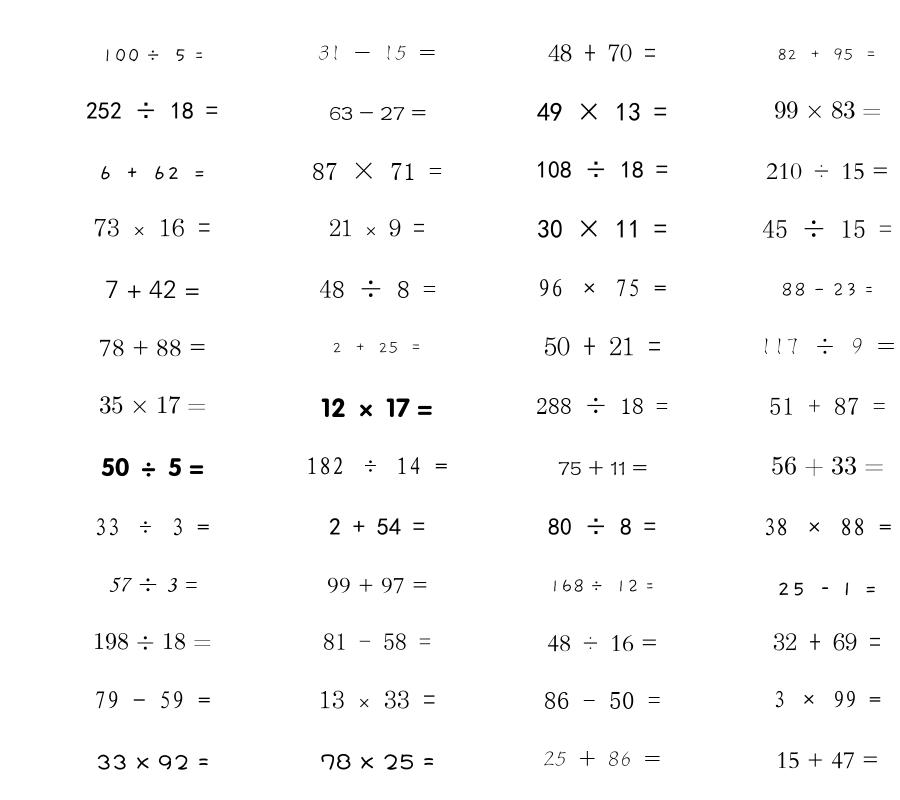MQ: (537, 219, 667, 239), (306, 457, 448, 475), (537, 102, 667, 121), (762, 219, 892, 238), (536, 161, 668, 179), (771, 456, 884, 477), (312, 162, 442, 180), (544, 336, 661, 356), (538, 279, 667, 297), (763, 518, 892, 536), (760, 338, 895, 355), (86, 102, 218, 119), (536, 397, 668, 414), (321, 398, 433, 418), (94, 218, 211, 237), (319, 690, 436, 709), (93, 632, 212, 650), (319, 280, 436, 298), (769, 397, 886, 415), (94, 691, 211, 709), (766, 163, 889, 180), (94, 518, 210, 536), (101, 457, 204, 477), (544, 692, 661, 709), (320, 753, 435, 770), (548, 44, 656, 62), (548, 518, 656, 536), (773, 633, 881, 651), (773, 690, 881, 708), (774, 101, 881, 119), (99, 339, 206, 357), (99, 396, 206, 414), (318, 45, 436, 61), (547, 635, 658, 652), (323, 633, 431, 650), (96, 754, 209, 770), (543, 751, 661, 766), (776, 752, 879, 769), (329, 219, 425, 237), (327, 577, 428, 594), (105, 280, 200, 298), (329, 518, 425, 535), (101, 48, 204, 63), (98, 166, 206, 180), (549, 579, 655, 593), (558, 460, 647, 476), (777, 582, 878, 596), (781, 282, 874, 297), (329, 106, 426, 120), (108, 577, 197, 592), (777, 48, 877, 61), (332, 341, 422, 354)
